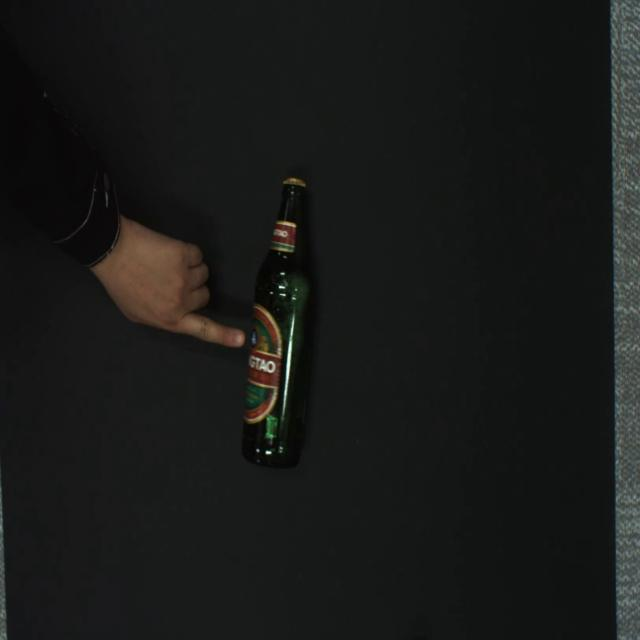beer-bottle: (242, 176, 317, 469)
